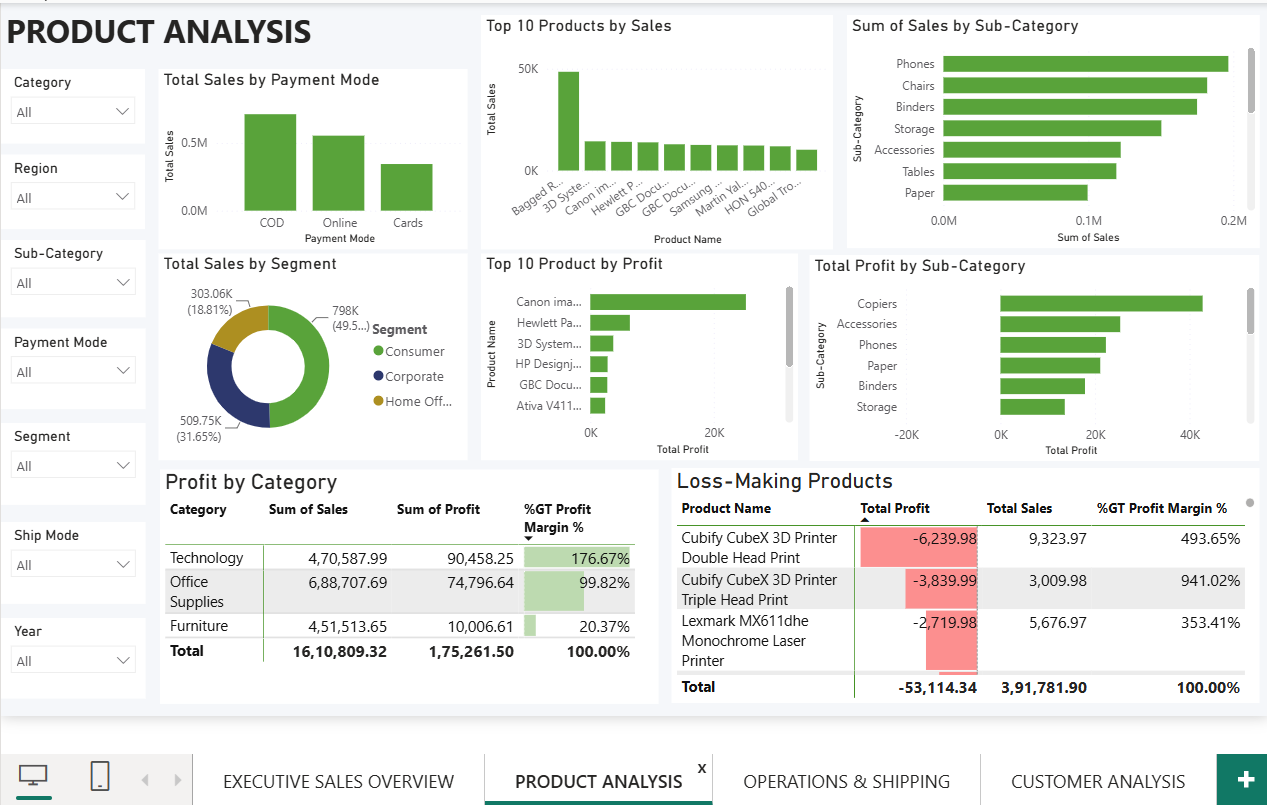

The page's visual inventory and layout, read from the dashboard file:
{"tool":"powerbi","page":{"name":"PRODUCT ANALYSIS","canvas":[1280,720],"ordinal":1},"visuals":[{"type":"clusteredBarChart","fields":{"Category":["SuperStore_Sales_Dataset (2).Sub-Category"],"Y":["Sum(SuperStore_Sales_Dataset (2).Sales)"]},"box":[853.3,11.7,416.7,235],"z":0},{"type":"barChart","fields":{"Category":["SuperStore_Sales_Dataset (2).Sub-Category"],"Y":["Table.Total Profit"]},"box":[816,254,454,208],"z":1000},{"type":"columnChart","title":"Top 10 Products by Sales ","fields":{"Category":["SuperStore_Sales_Dataset (2).Product Name"],"Y":["Table.Total Sales"]},"box":[485,11.7,355,236.7],"z":2000},{"type":"donutChart","fields":{"Category":["SuperStore_Sales_Dataset (2).Segment"],"Y":["Table.Total Sales"]},"box":[158.3,253.3,311.7,208.3],"z":3000},{"type":"columnChart","fields":{"Category":["SuperStore_Sales_Dataset (2).Payment Mode"],"Y":["Table.Total Sales"]},"box":[158.3,66.7,311.7,181.7],"z":4000},{"type":"textbox","box":[0,0,410,56],"z":5000},{"type":"barChart","title":"Top 10 Product by Profit","fields":{"Category":["SuperStore_Sales_Dataset (2).Product Name"],"Y":["Table.Total Profit"]},"box":[485,253.3,320,208.3],"z":6000},{"type":"pivotTable","title":"Loss-Making Products","fields":{"Rows":["SuperStore_Sales_Dataset (2).Product Name"],"Values":["Table.Total Profit","Table.Total Sales","Table.Profit Margin %"]},"box":[676.7,470,593.3,236.7],"z":7000},{"type":"pivotTable","title":"Profit by Category","fields":{"Rows":["SuperStore_Sales_Dataset (2).Category"],"Values":["Sum(SuperStore_Sales_Dataset (2).Sales)","Sum(SuperStore_Sales_Dataset (2).Profit)","Table.Profit Margin %"]},"box":[160,471.7,503.3,236.7],"z":8000},{"type":"slicer","fields":{"Values":["SuperStore_Sales_Dataset (2).Category"]},"box":[0,66.7,145,75],"z":9000},{"type":"slicer","fields":{"Values":["SuperStore_Sales_Dataset (2).Region"]},"box":[0,153.3,145,75],"z":10000},{"type":"slicer","fields":{"Values":["SuperStore_Sales_Dataset (2).Sub-Category"]},"box":[0,238.6,145.8,77.9],"z":11000},{"type":"slicer","fields":{"Values":["SuperStore_Sales_Dataset (2).Payment Mode"]},"box":[0,328,145.8,81.2],"z":12000},{"type":"slicer","fields":{"Values":["SuperStore_Sales_Dataset (2).Segment"]},"box":[0,424.1,145.8,82.8],"z":13000},{"type":"slicer","fields":{"Values":["SuperStore_Sales_Dataset (2).Ship Mode"]},"box":[0,523.5,145.8,82.8],"z":14000},{"type":"slicer","fields":{"Values":["Calendar.Year"]},"box":[0,621.2,145.8,81.2],"z":15000}]}

Visuals, with their boxes on the page's 1280x720 design canvas (x1, y1, x2, y2). These are canvas units, not pixel positions in the 1267x805 screenshot, which may show the page scaled, cropped or inside an application window:
clusteredBarChart - SuperStore_Sales_Dataset (2).Sub-Category x Sum(SuperStore_Sales_Dataset (2).Sales): bbox(853, 12, 1270, 247)
barChart - SuperStore_Sales_Dataset (2).Sub-Category x Table.Total Profit: bbox(816, 254, 1270, 462)
"Top 10 Products by Sales " columnChart: bbox(485, 12, 840, 248)
donutChart - SuperStore_Sales_Dataset (2).Segment x Table.Total Sales: bbox(158, 253, 470, 462)
columnChart - SuperStore_Sales_Dataset (2).Payment Mode x Table.Total Sales: bbox(158, 67, 470, 248)
textbox: bbox(0, 0, 410, 56)
"Top 10 Product by Profit" barChart: bbox(485, 253, 805, 462)
"Loss-Making Products" pivotTable: bbox(677, 470, 1270, 707)
"Profit by Category" pivotTable: bbox(160, 472, 663, 708)
slicer - SuperStore_Sales_Dataset (2).Category: bbox(0, 67, 145, 142)
slicer - SuperStore_Sales_Dataset (2).Region: bbox(0, 153, 145, 228)
slicer - SuperStore_Sales_Dataset (2).Sub-Category: bbox(0, 239, 146, 316)
slicer - SuperStore_Sales_Dataset (2).Payment Mode: bbox(0, 328, 146, 409)
slicer - SuperStore_Sales_Dataset (2).Segment: bbox(0, 424, 146, 507)
slicer - SuperStore_Sales_Dataset (2).Ship Mode: bbox(0, 524, 146, 606)
slicer - Calendar.Year: bbox(0, 621, 146, 702)
